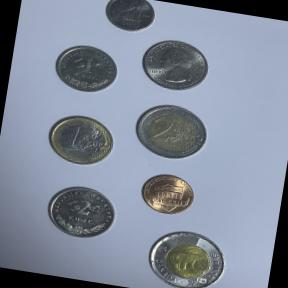coin: (137, 220, 233, 288), (127, 96, 215, 166), (38, 176, 125, 246), (40, 107, 122, 173), (135, 34, 215, 97), (134, 165, 202, 220), (98, 0, 158, 39)
